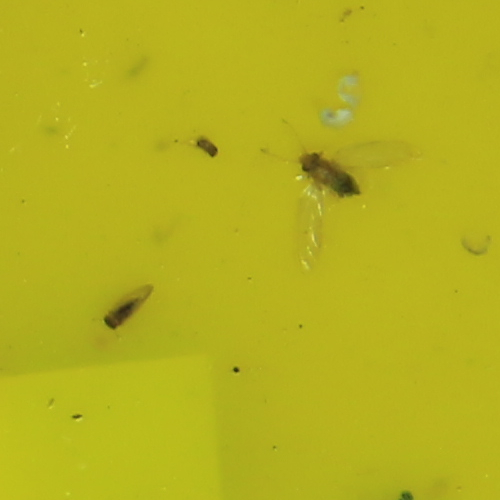Glycaspis: (299, 148, 364, 197)
psylla: (104, 293, 143, 329)
